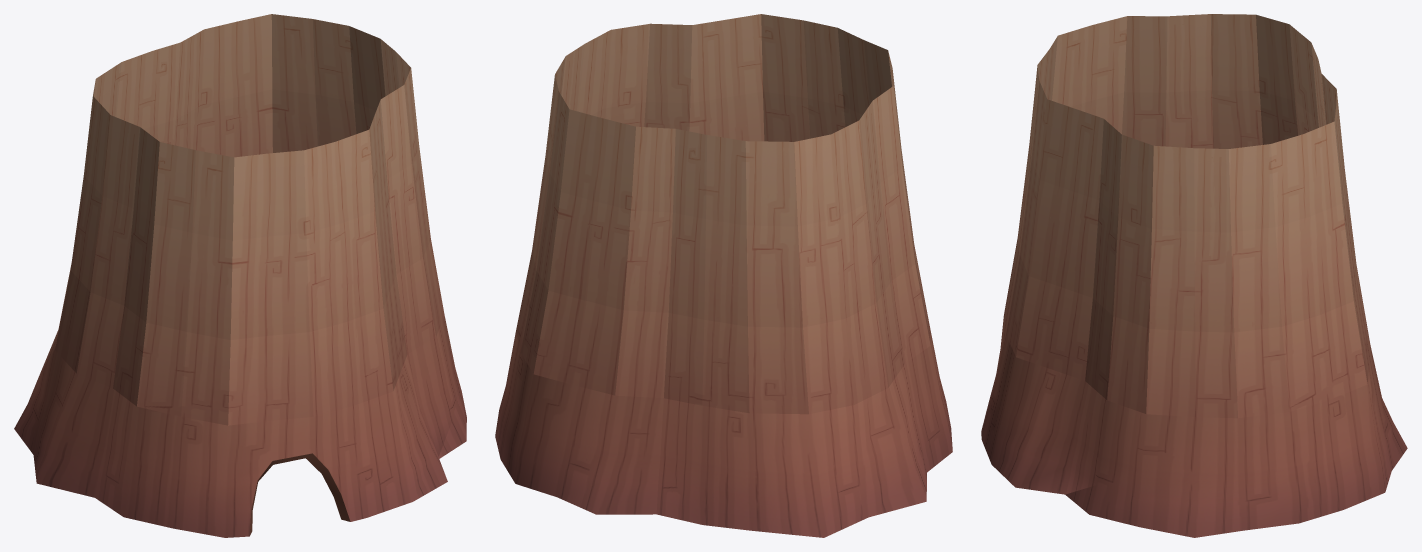
Rendered from env_tree_export_01.fbx.
The picture shows the model from 3 angles, left to right: view 1: azimuth 30°, elevation 25°; view 2: azimuth 150°, elevation 25°; view 3: azimuth 270°, elevation 25°; orthographic projection.
Visible parts, largest first — view 1: pCylinder1; view 2: pCylinder1; view 3: pCylinder1.
Boxes of the visible parts, x1,y1,x2,y2 form: pCylinder1: [14, 14, 466, 537]; pCylinder1: [495, 14, 952, 537]; pCylinder1: [981, 14, 1407, 537].
Bounding box in the file's own units: 29.32 × 24.14 × 26.09.
Materials: 1 (1 with a texture image).
